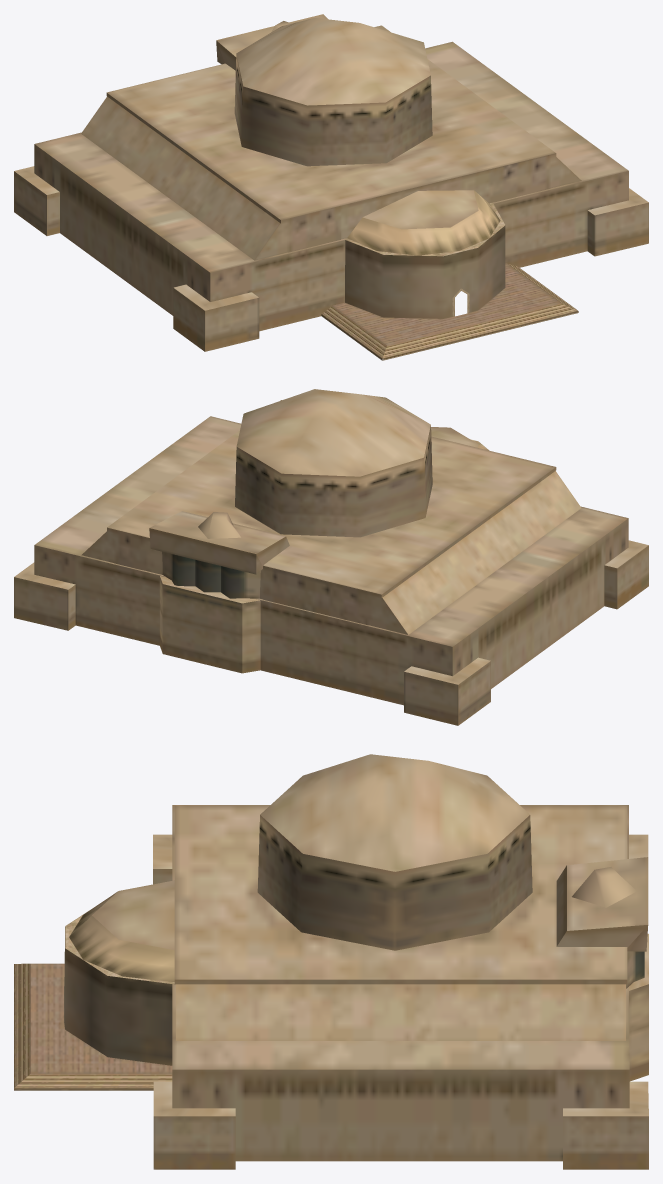
Rendered from mun_tato_hotel_s01_r0_mesh_l3.fbx.
The picture shows the model from 3 angles, top to bottom: view 1: azimuth 30°, elevation 25°; view 2: azimuth 150°, elevation 25°; view 3: azimuth 270°, elevation 25°; orthographic projection. The views are drawn at different scales.
Visible parts, largest first — view 1: mesh_node; view 2: mesh_node; view 3: mesh_node.
Part boxes in pixels (left/top/right/bottom): mesh_node: left=14, top=14, right=648, bottom=360; mesh_node: left=14, top=389, right=648, bottom=725; mesh_node: left=14, top=754, right=648, bottom=1169.
Size of the model in its own units: 59.59 by 26.11 by 56.85.
Materials: 1 (1 with a texture image).
